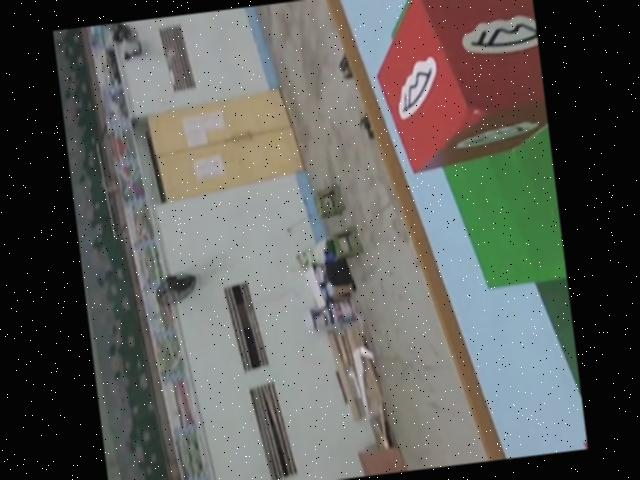R2 Real: (362, 0, 551, 177)
